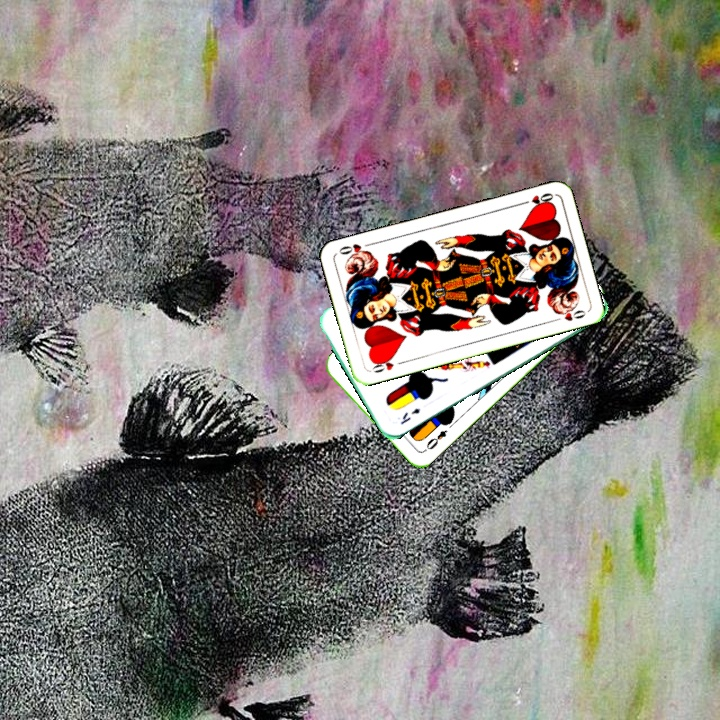EK: (397, 404, 423, 427)
EO: (422, 426, 450, 452)
HO: (516, 189, 556, 210), (368, 353, 406, 375)
